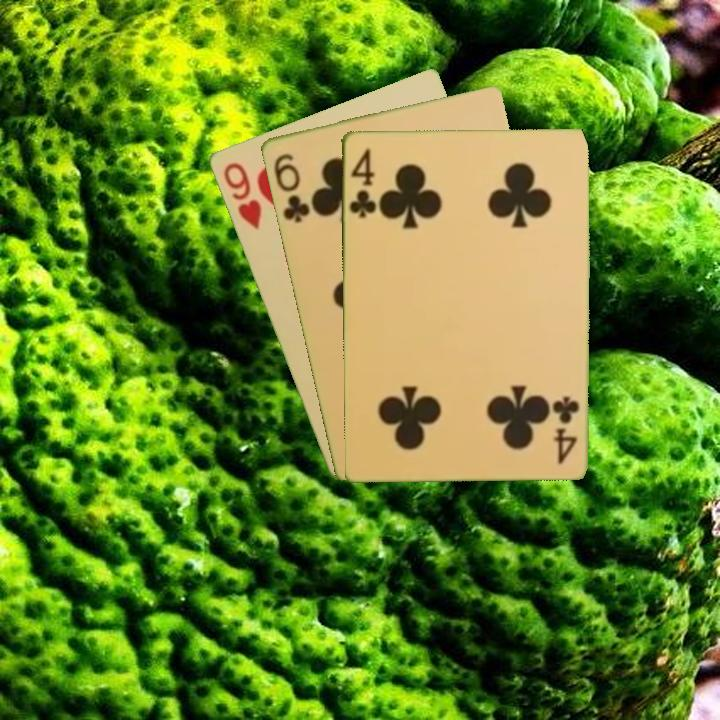4c: (345, 144, 378, 220), (553, 392, 582, 467)
6c: (269, 149, 313, 226)
9h: (219, 158, 264, 233)
